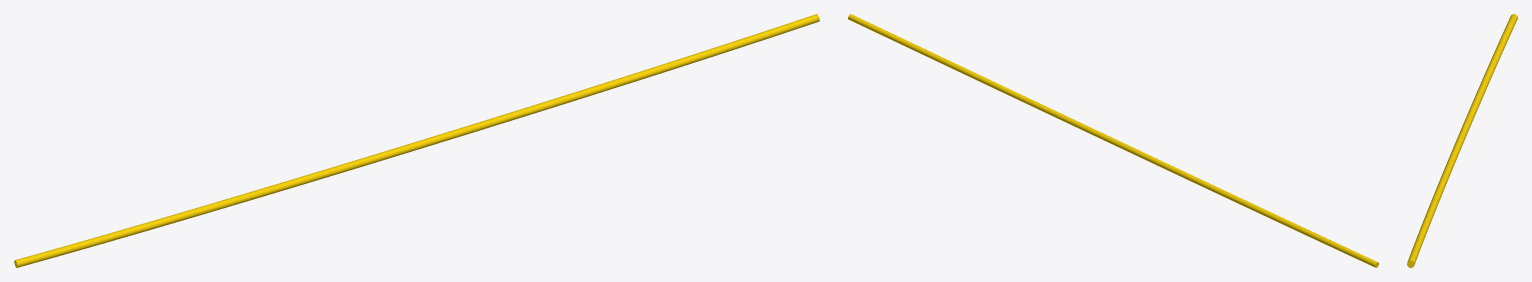
The model's file is Event_420094457_track_45.fbx.
3 views of the same model, side by side, from view 1: azimuth 30°, elevation 25°; view 2: azimuth 150°, elevation 25°; view 3: azimuth 270°, elevation 25° (orthographic). The views are drawn at different scales.
Parts seen in each view (by area): view 1: Model; view 2: Model; view 3: Model.
Part boxes in pixels (bbox=[...]): Model: bbox=[14, 14, 819, 267]; Model: bbox=[848, 14, 1378, 267]; Model: bbox=[1407, 14, 1517, 267].
Bounding box in the file's own units: 4.28 × 0.6079 × 0.5813.
